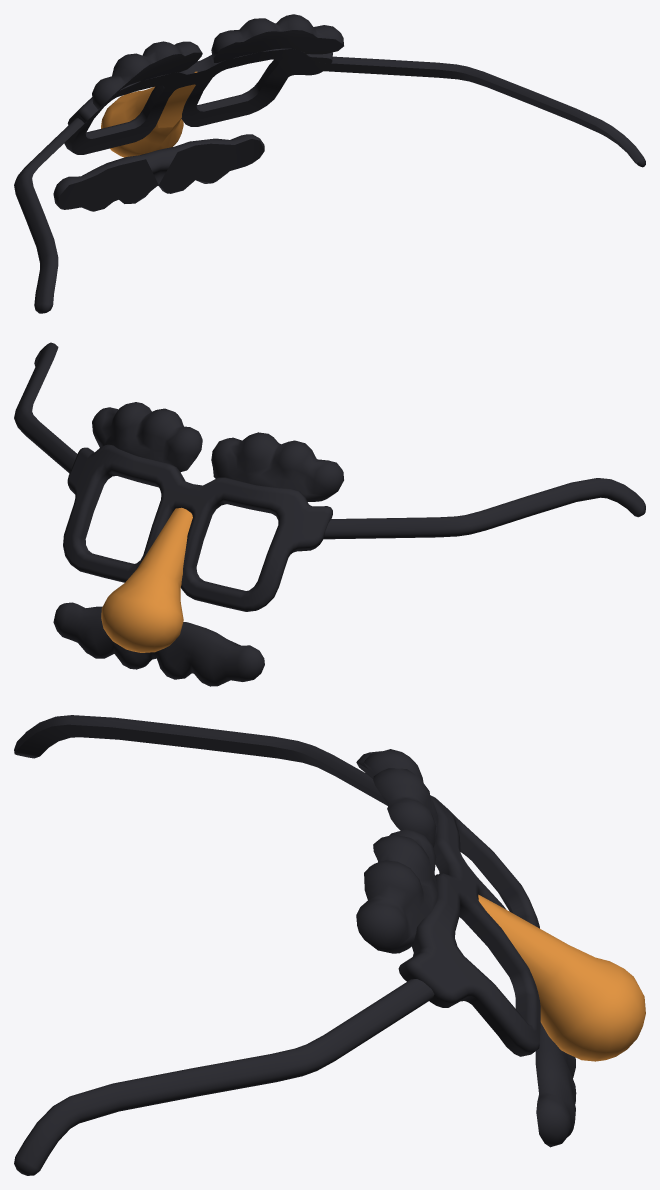
Rendered from Cosmetic_Disguise_Glasses_v2.glb.
3 views of the same model, one above another, from view 1: azimuth 30°, elevation 25°; view 2: azimuth 150°, elevation 25°; view 3: azimuth 270°, elevation 25° (orthographic). The views are drawn at different scales.
Visible parts, largest first — view 1: Disguise_Glasses; view 2: Disguise_Glasses; view 3: Disguise_Glasses.
Boxes of the visible parts, bbox=[...] form: Disguise_Glasses: bbox=[14, 14, 645, 313]; Disguise_Glasses: bbox=[14, 342, 645, 686]; Disguise_Glasses: bbox=[14, 715, 645, 1175].
Bounding box in the file's own units: 1.14 × 0.3752 × 0.7216.
